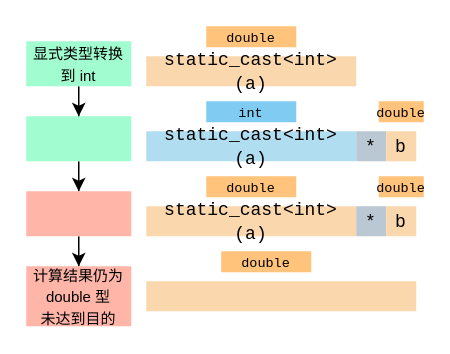
The diagram is 450 pixels wide and 354 high, and some of its shapes have lost their labels. The shapes that lost their labels are listed below. From the top down, each one's centre as x and y in pixels, then its label:
the point at 78,138: 类型不一致 不可计算
the point at 78,213: 隐式转换后 可计算
the point at 281,295: static_cast<int> (a) * b
